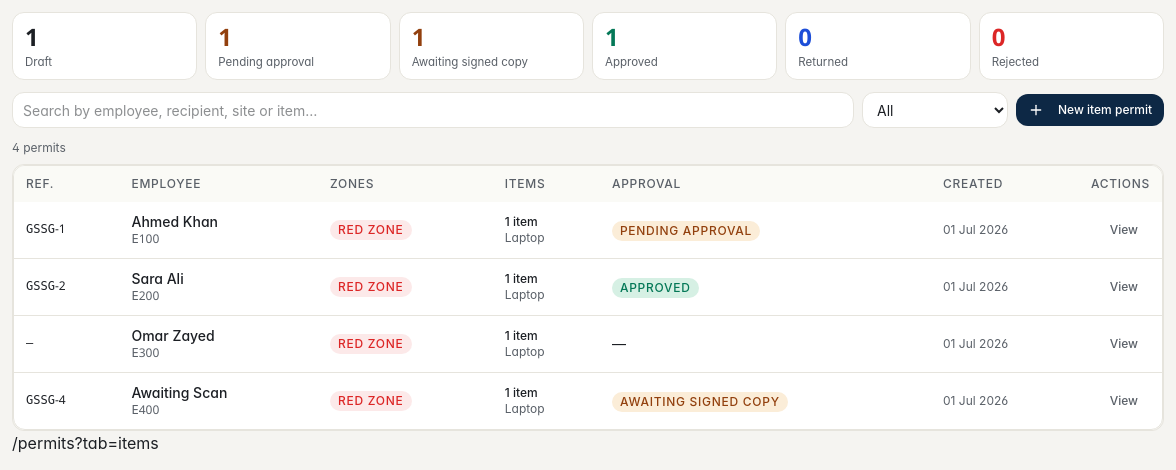
Test: ItemPermitsTab › filters by approval tile, reflects it in the URL, and Clear filters resets it
The width and height of the screenshot is (1176, 470).
Check: the text "Ahmed Khan" is shown, box [132,213,218,230]
Click the button "1 Pending approval". click: (298, 46)
box: [205,12,391,80]
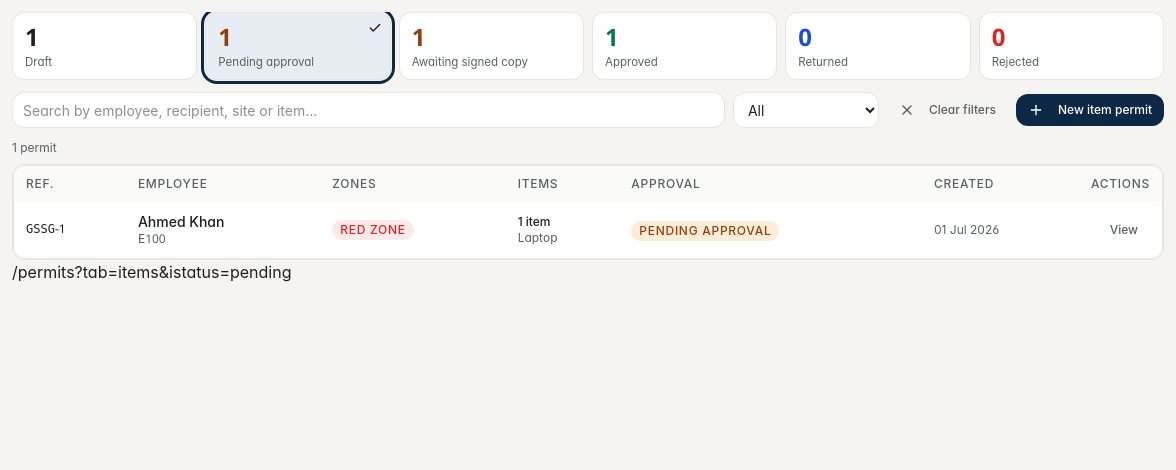
Check: the text with test id "location" shows "istatus=pending", box [12,262,292,282]
Check: the text "Sara Ali" is gone
Check: the text "1 permit" is shown, box [12,140,57,155]
Click the button "Clear filters". click: (947, 110)
box: [887,94,1008,126]
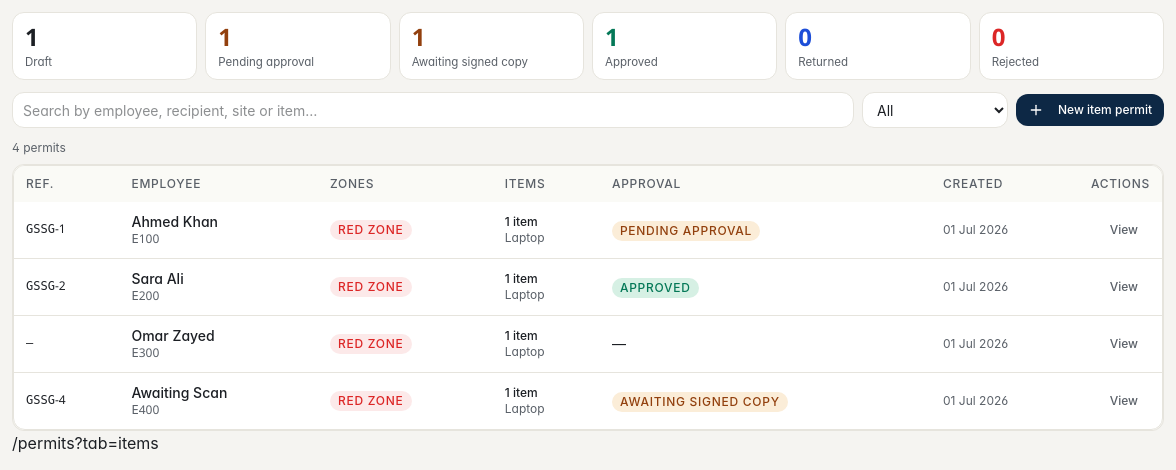
Check: the text with test id "location" reads "/permits?tab=items", box [12,433,159,453]
Check: the text "Sara Ali" is shown, box [132,270,184,287]
